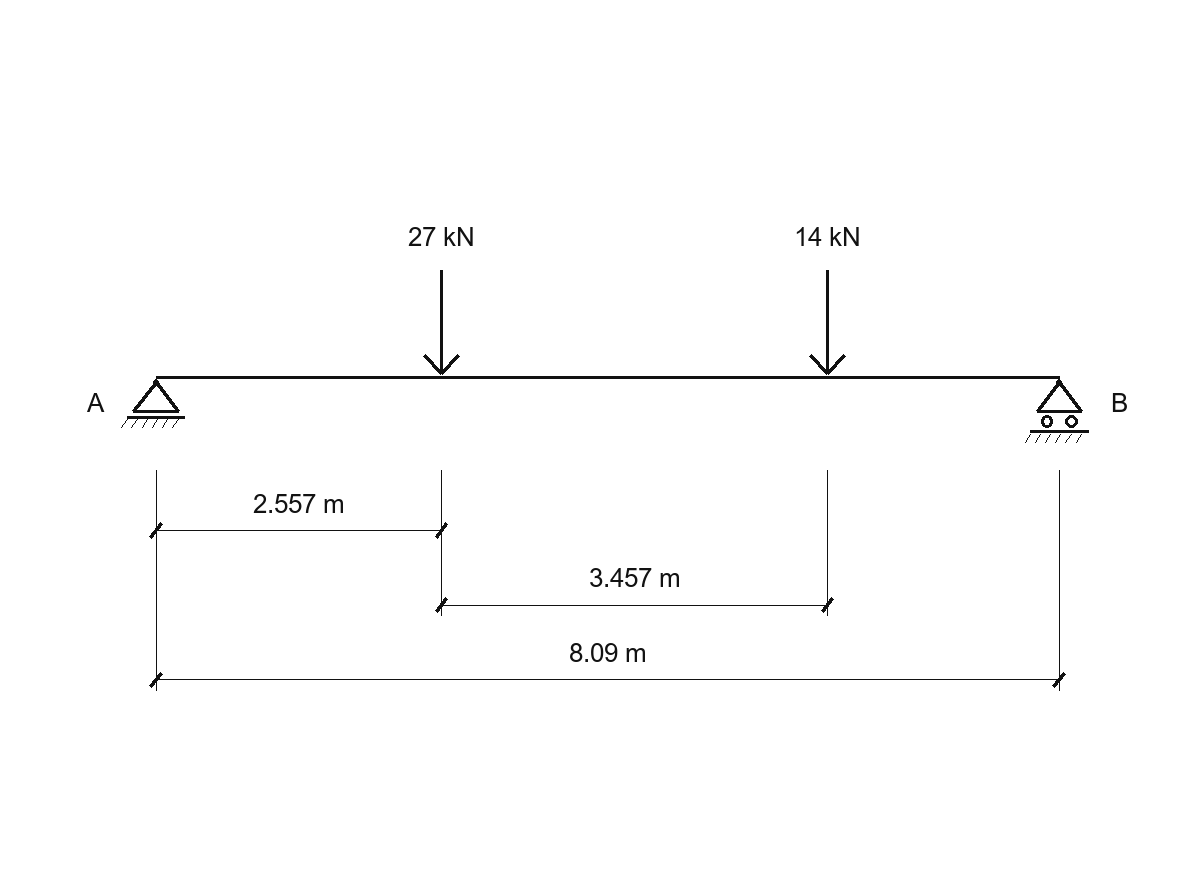pin_support: (121, 379, 185, 428)
point_load: (423, 270, 460, 375), (809, 270, 846, 375)
roller_support: (1025, 379, 1089, 443)
